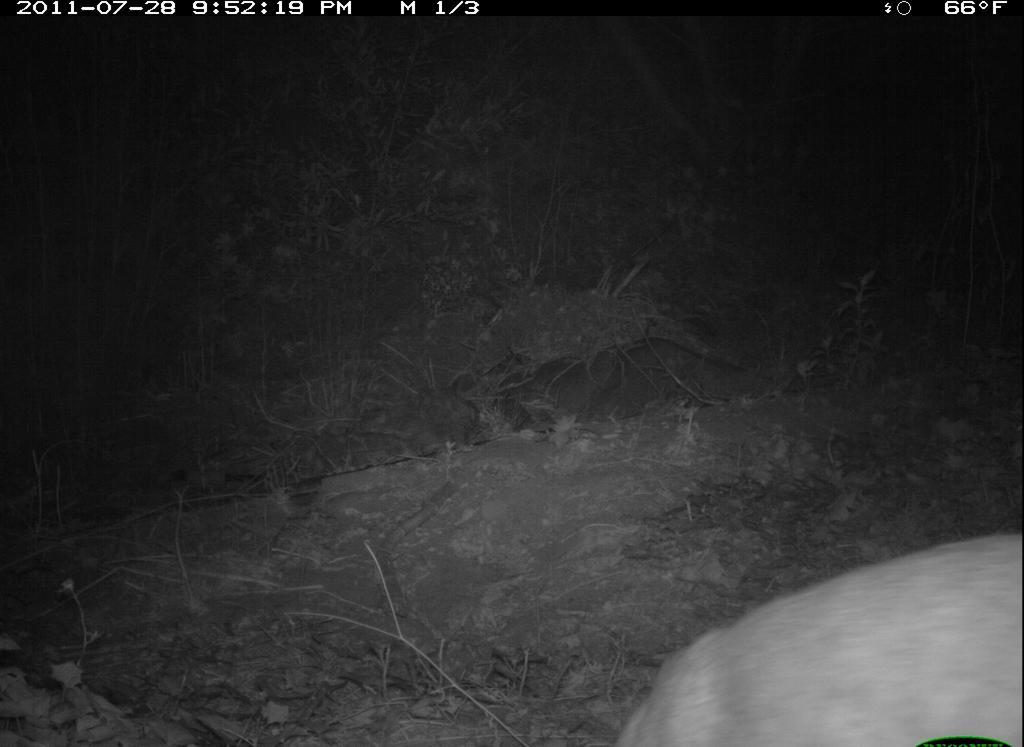bobcat: (600, 525, 1021, 745)
